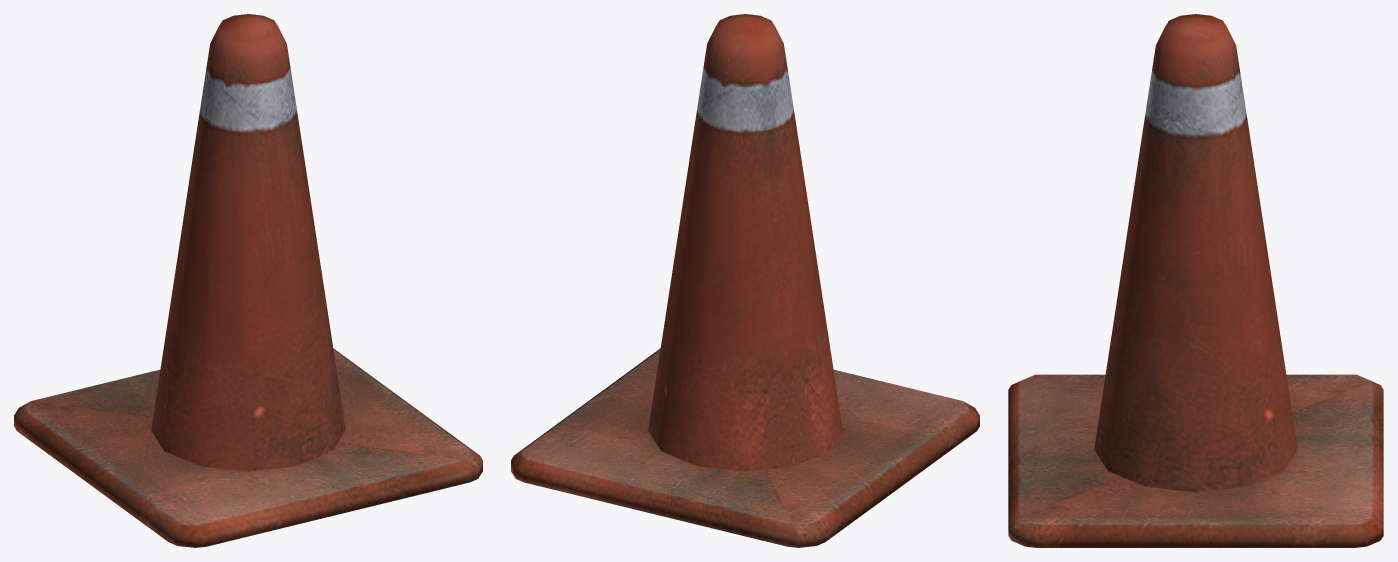
Rendered from Roadblock.FBX.
The picture shows the model from 3 angles, left to right: view 1: azimuth 30°, elevation 25°; view 2: azimuth 150°, elevation 25°; view 3: azimuth 270°, elevation 25°; orthographic projection. The views are drawn at different scales.
Parts seen in each view (by area): view 1: Roadblock; view 2: Roadblock; view 3: Roadblock.
Part boxes in pixels (x1=…): Roadblock: x1=14, y1=14, x2=482, y2=547; Roadblock: x1=511, y1=14, x2=979, y2=547; Roadblock: x1=1008, y1=14, x2=1383, y2=547.
Bounding box in the file's own units: 40.16 × 40.16 × 52.98.
Materials: 1 (1 with a texture image).
